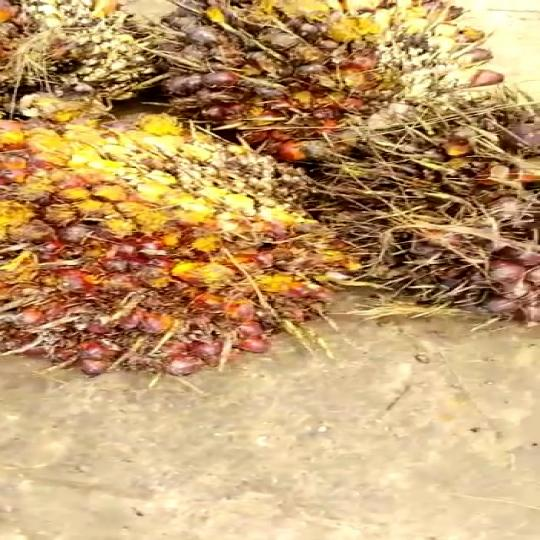masak: (7, 0, 540, 331), (0, 85, 372, 360)
